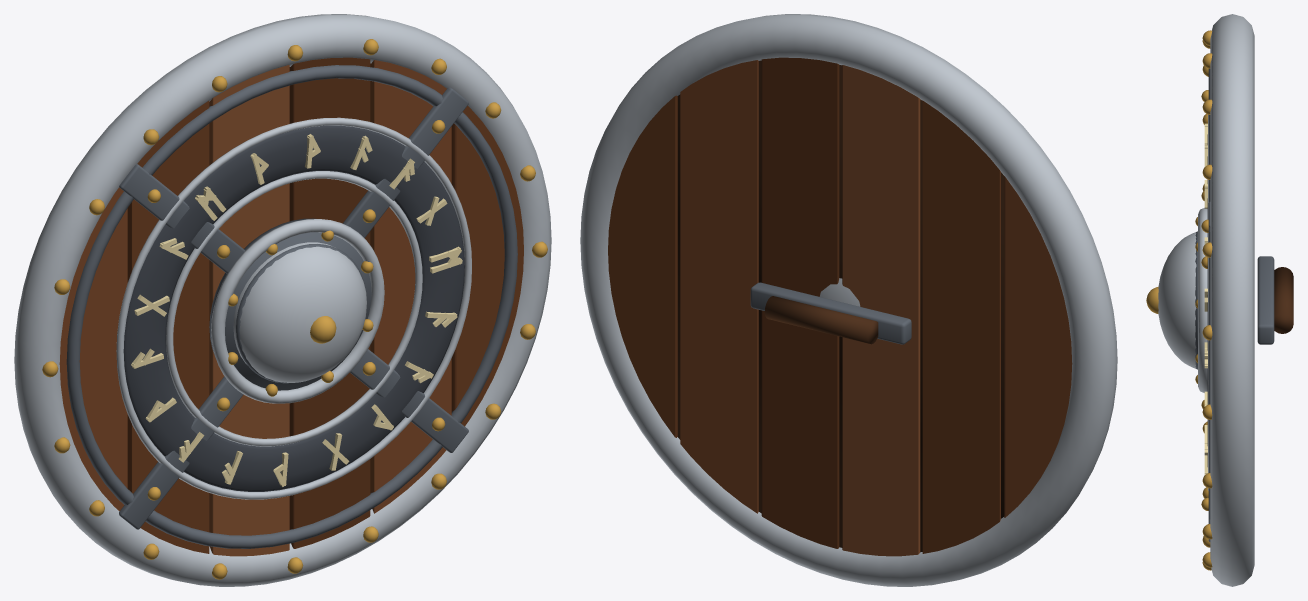
The model's file is guardian_shield.glb.
3 views of the same model, side by side, from view 1: azimuth 30°, elevation 25°; view 2: azimuth 150°, elevation 25°; view 3: azimuth 270°, elevation 25° (orthographic). The views are drawn at different scales.
Parts seen in each view (by area): view 1: guardian_shield; view 2: guardian_shield; view 3: guardian_shield.
Part boxes in pixels (left/top/right/bottom): guardian_shield: left=14, top=14, right=551, bottom=586; guardian_shield: left=580, top=14, right=1117, bottom=586; guardian_shield: left=1146, top=14, right=1293, bottom=586.
Bounding box in the file's own units: 1 × 1 × 0.2573.
